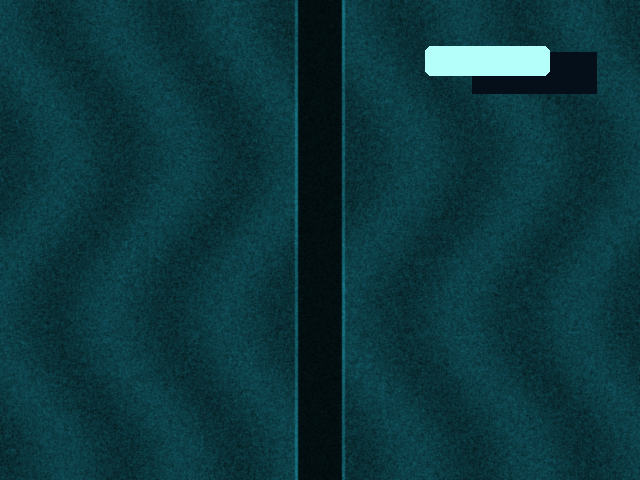Wood Debris: (425, 46, 549, 75)
